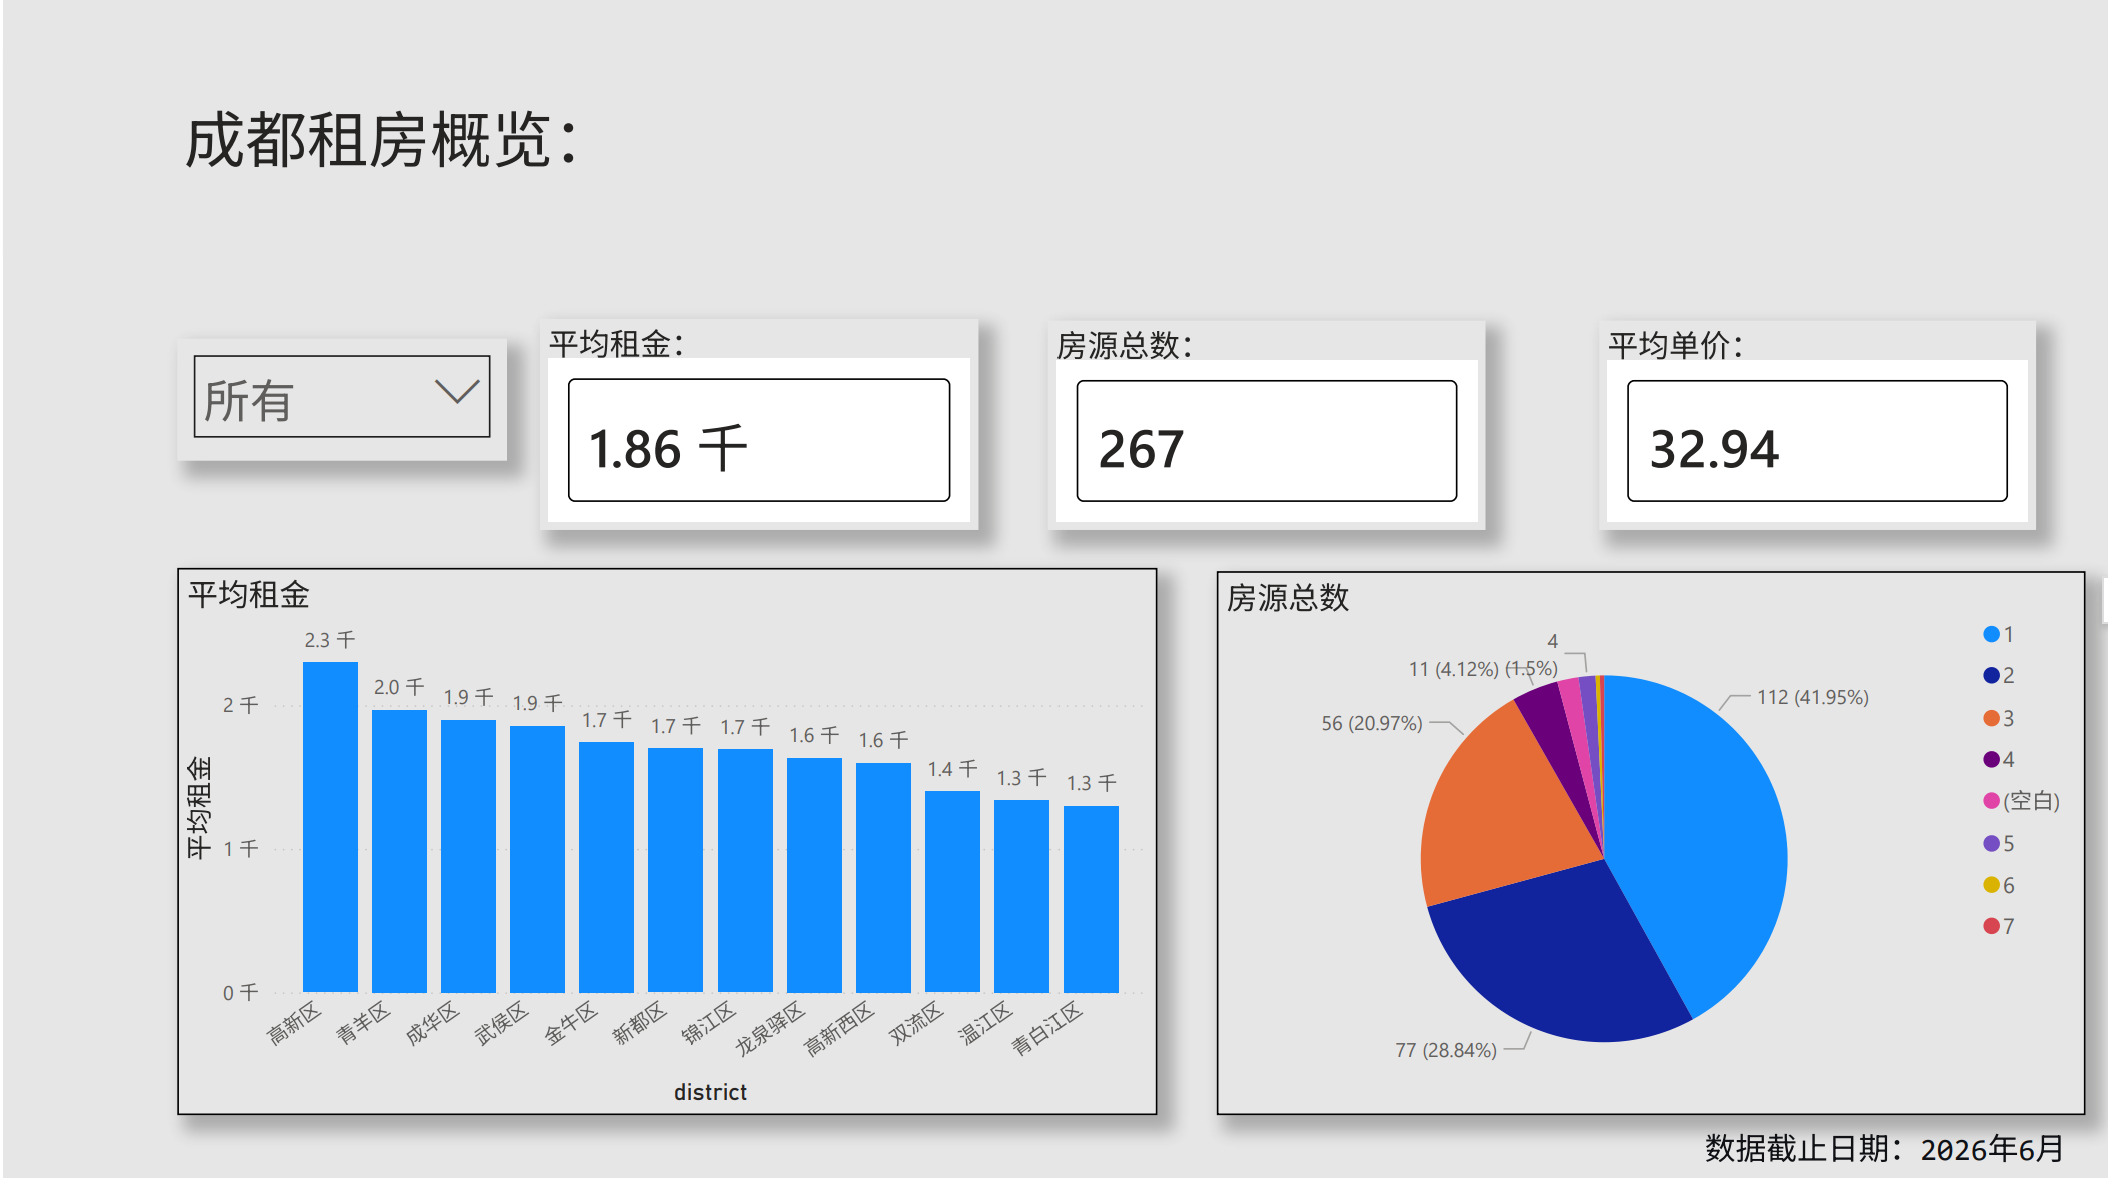

The page's visual inventory and layout, read from the dashboard file:
{"tool":"powerbi","page":{"name":"第 1 页","canvas":[1280,720],"ordinal":0},"visuals":[{"type":"slicer","fields":{"Values":["rental_chengdu district_summary.district"]},"box":[105.8,210.4,200.2,73.9],"z":0},{"type":"cardVisual","title":"平均单价：","fields":{"Data":["rental_chengdu clean_rent.平均单价"]},"box":[967.6,198.9,265.2,127.5],"z":1000},{"type":"cardVisual","title":"平均租金：","fields":{"Data":["rental_chengdu clean_rent.平均租金"]},"box":[326.4,197.6,265.2,128.8],"z":2000},{"type":"cardVisual","title":"房源总数：","fields":{"Data":["rental_chengdu clean_rent.房源总数"]},"box":[633.6,198.9,265.2,127.5],"z":3000},{"type":"columnChart","title":"平均租金","fields":{"Category":["rental_chengdu clean_rent.district"],"Y":["rental_chengdu clean_rent.平均租金"]},"box":[105.8,349.3,594.1,331.5],"z":4000},{"type":"pieChart","title":"房源总数","fields":{"Y":["rental_chengdu clean_rent.房源总数"],"Category":["rental_chengdu clean_rent.rooms"]},"box":[735.6,350.6,527.8,330.2],"z":5000},{"type":"textbox","box":[105,38.4,353.3,117.8],"z":6000},{"type":"textbox","box":[1027.4,681.3,252.6,41.3],"z":7000}]}

Visuals, with their boxes in screenshot pixels (x1, y1, x2, y2), scaled from the page's 1280x720 canvas onto the 2108x1178 screenshot:
slicer - rental_chengdu district_summary.district: <box>174,344,504,465</box>
"平均单价：" cardVisual: <box>1594,325,2030,534</box>
"平均租金：" cardVisual: <box>538,323,974,534</box>
"房源总数：" cardVisual: <box>1043,325,1480,534</box>
"平均租金" columnChart: <box>174,571,1153,1114</box>
"房源总数" pieChart: <box>1211,574,2081,1114</box>
textbox: <box>173,63,755,256</box>
textbox: <box>1692,1115,2107,1177</box>
